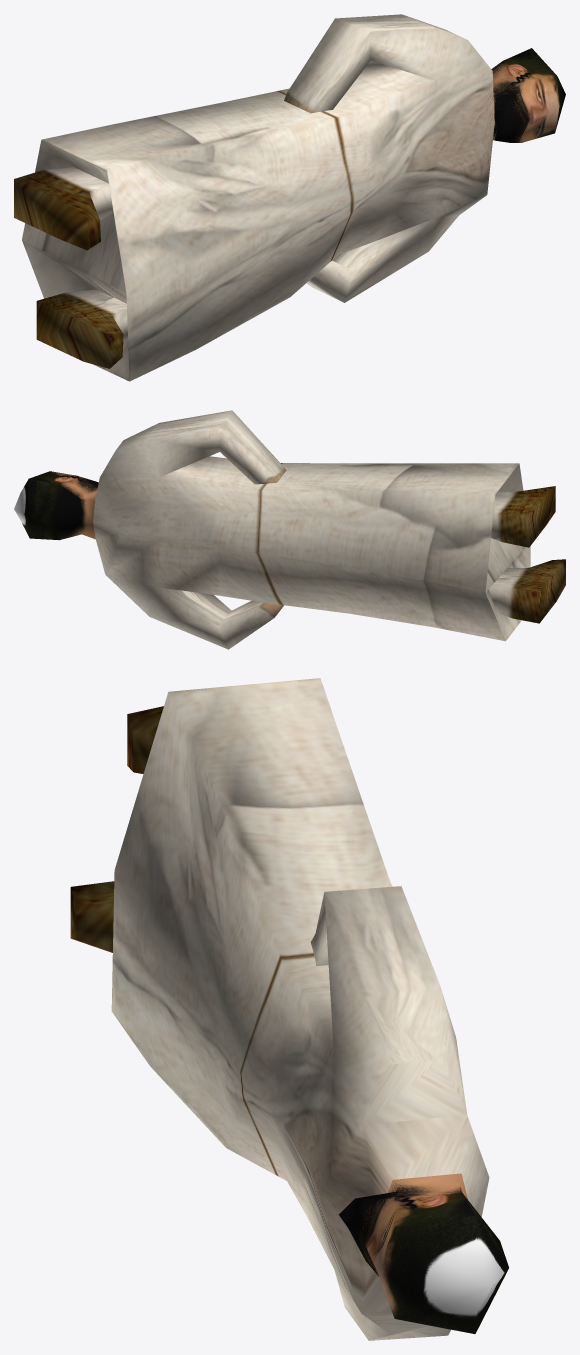
File: man1_55.fbx
3 renders of one model, top to bottom at view 1: azimuth 30°, elevation 25°; view 2: azimuth 150°, elevation 25°; view 3: azimuth 270°, elevation 25°, orthographic. The views are drawn at different scales.
Visible parts, largest first — view 1: man1_55; view 2: man1_55; view 3: man1_55.
Boxes of the visible parts, x1,y1,x2,y2 form: man1_55: (14, 14, 565, 381); man1_55: (14, 410, 565, 649); man1_55: (70, 678, 508, 1340).
Size of the model in its own units: 37.19 by 16.37 by 15.06.
